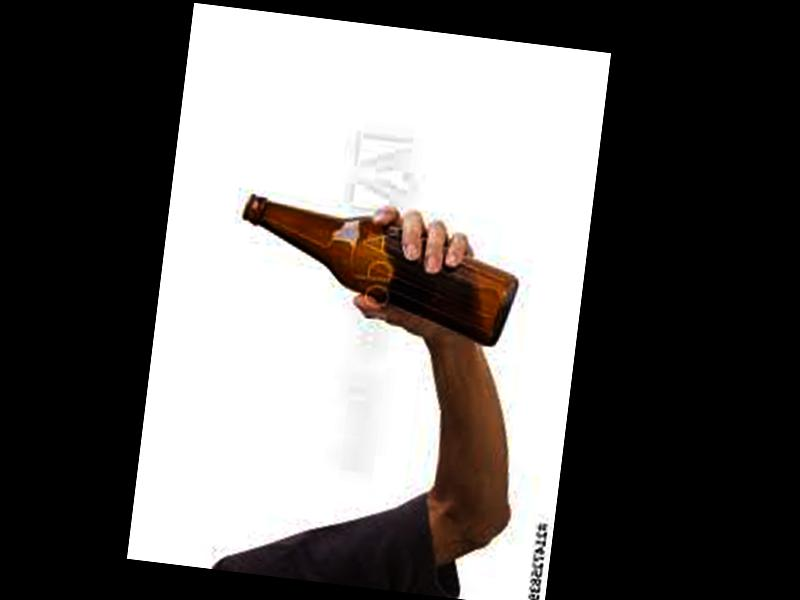Beer: (230, 191, 525, 349)
